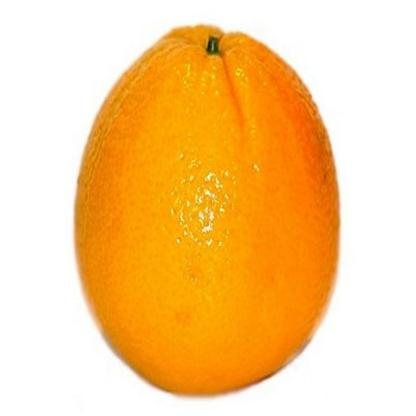orange: (70, 22, 339, 404)
